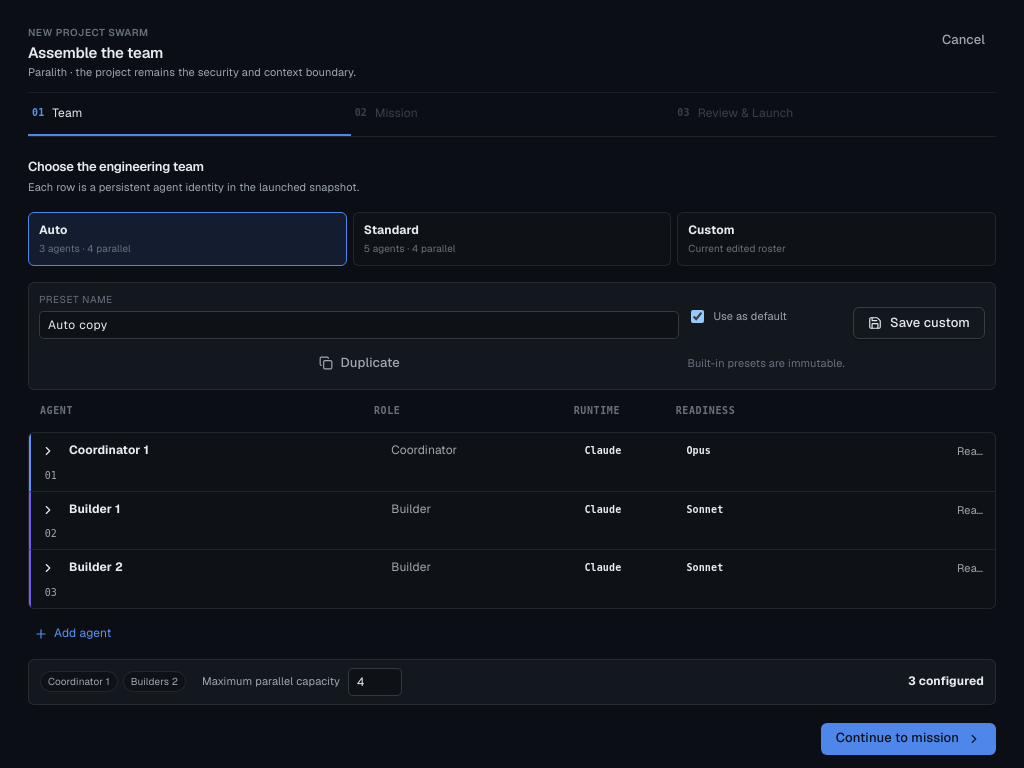
Test: SwarmCreatePanel V2 › shows mixed Claude and Codex agents as individual identities
This screenshot has width=1024, height=768.
Click the text "Standard" at (391, 230), box left=364, top=222, right=419, bottom=238
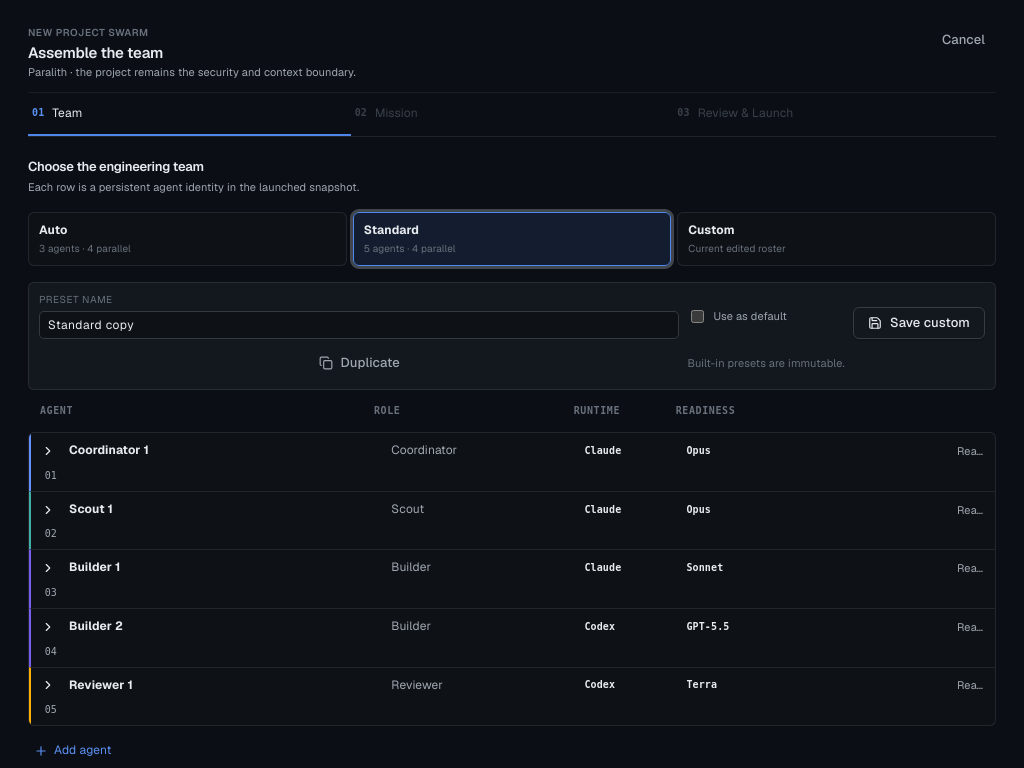
Expected: the text "Builder 1" is shown, left=69, top=560, right=120, bottom=576
Expected: the 1st text "Codex" is shown, left=584, top=621, right=615, bottom=632
